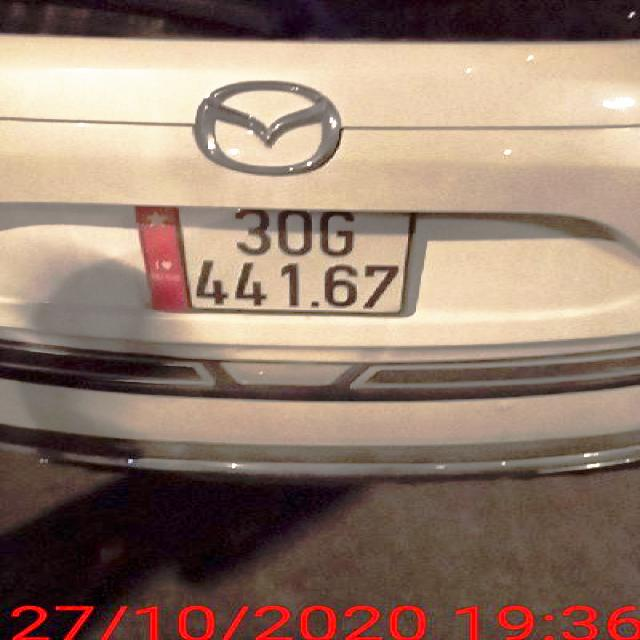license_plate: (136, 207, 415, 316)
